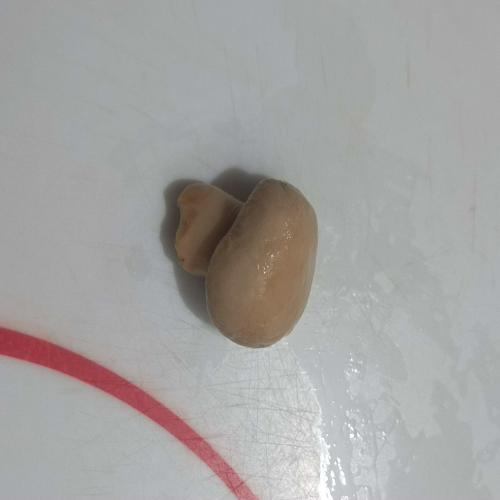Button Mushroom: (171, 176, 319, 350)
